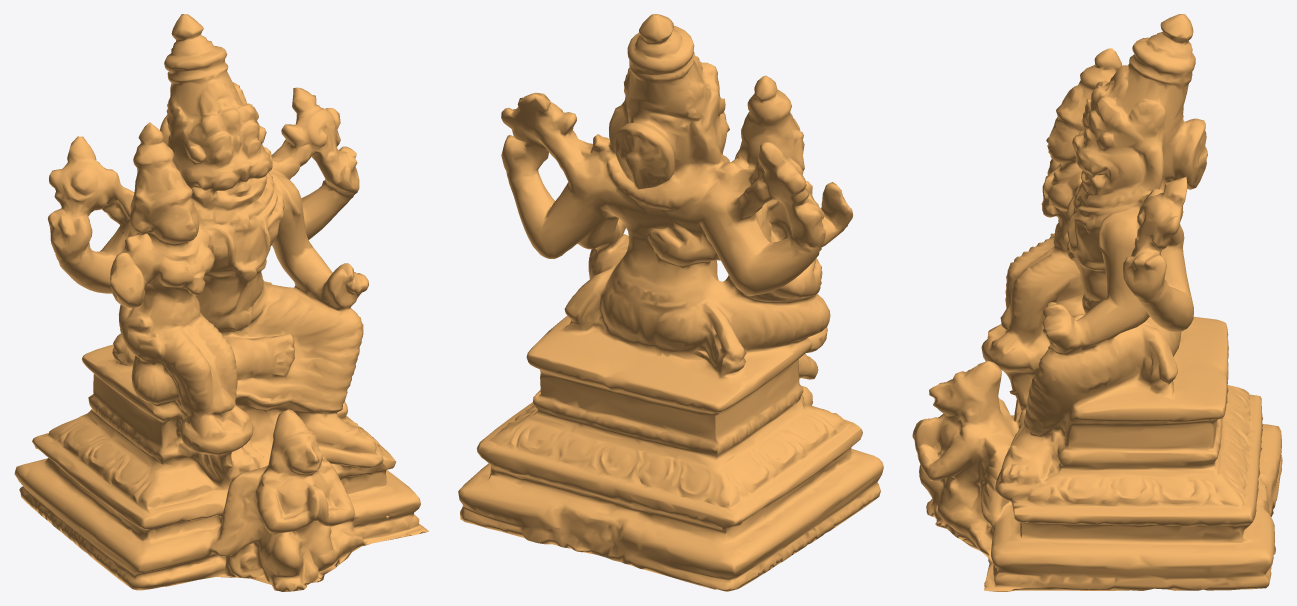
Rendered from Vainavam_Lakshmi_Narashimmar_11.glb.
3 views of the same model, side by side, from view 1: azimuth 30°, elevation 25°; view 2: azimuth 150°, elevation 25°; view 3: azimuth 270°, elevation 25° (orthographic). The views are drawn at different scales.
Parts seen in each view (by area): view 1: Vainavam_Lakshmi_Narashimmar_11; view 2: Vainavam_Lakshmi_Narashimmar_11; view 3: Vainavam_Lakshmi_Narashimmar_11.
Boxes of the visible parts, box(x1,y1,x2,y2) form: Vainavam_Lakshmi_Narashimmar_11: box(14, 14, 428, 591); Vainavam_Lakshmi_Narashimmar_11: box(458, 14, 883, 591); Vainavam_Lakshmi_Narashimmar_11: box(912, 14, 1282, 591).
Bounding box in the file's own units: 0.3508 × 0.5349 × 0.3578.
